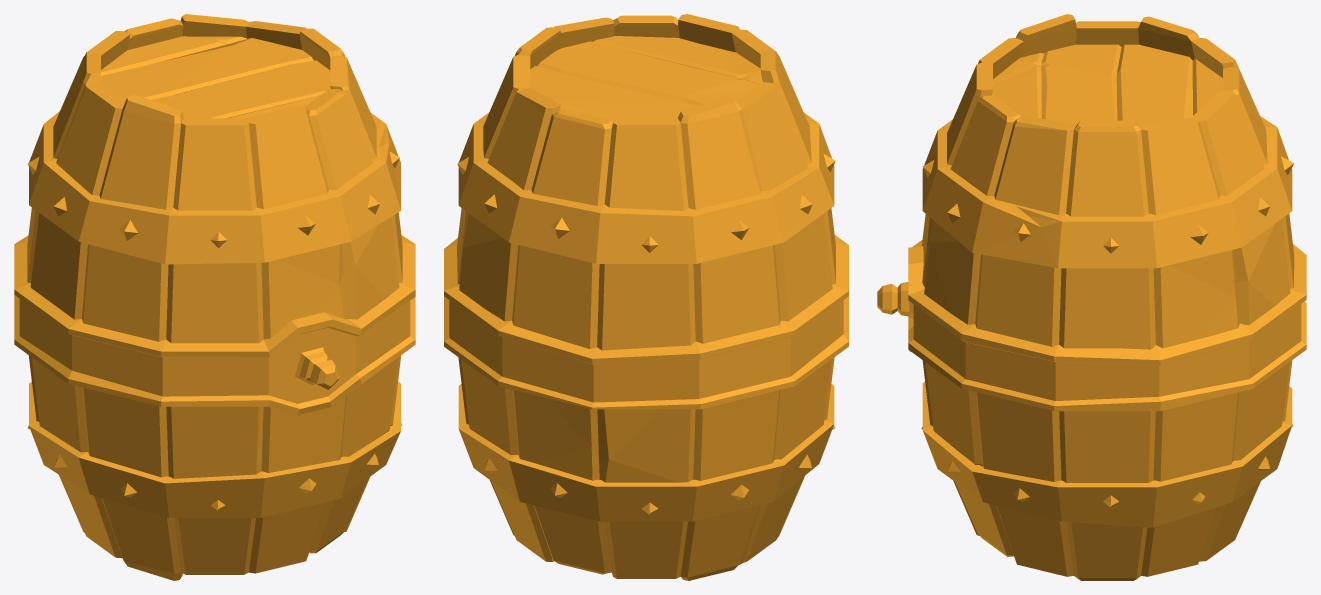
The model's file is SM_Barrel_Wood_A_Closed_B_Fantasy.fbx.
The picture shows the model from 3 angles, left to right: view 1: azimuth 30°, elevation 25°; view 2: azimuth 150°, elevation 25°; view 3: azimuth 270°, elevation 25°; orthographic projection.
Parts seen in each view (by area): view 1: barrel-wood-a-closed-b-fantasy; view 2: barrel-wood-a-closed-b-fantasy; view 3: barrel-wood-a-closed-b-fantasy.
Boxes of the visible parts, box(x1,y1,x2,y2) form: barrel-wood-a-closed-b-fantasy: box(14, 14, 415, 580); barrel-wood-a-closed-b-fantasy: box(444, 14, 848, 580); barrel-wood-a-closed-b-fantasy: box(877, 14, 1306, 580).
Bounding box in the file's own units: 0.9918 × 1.28 × 1.07.
